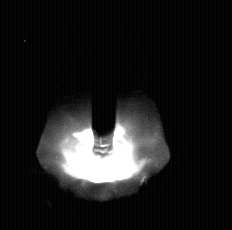arame: (92, 0, 117, 156)
poca: (37, 0, 171, 230)
